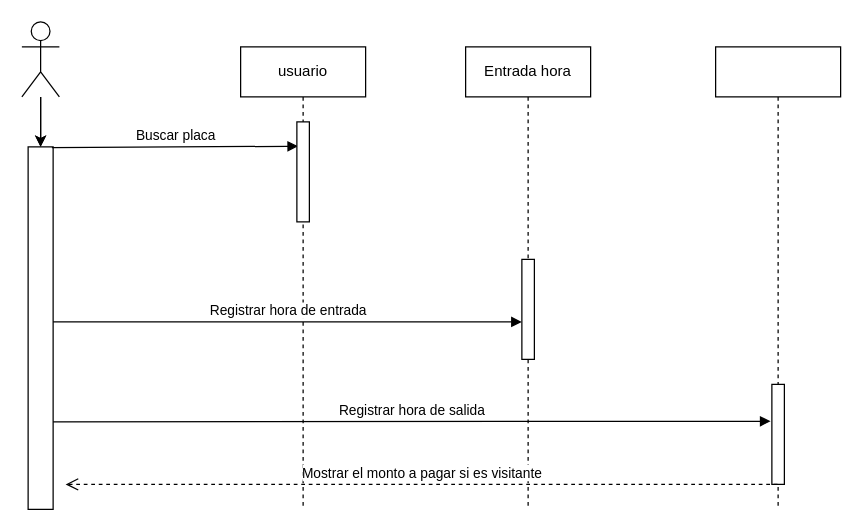
The diagram is 863 pixels wide and 531 high, and some of its shapes have lost their labels. The box of each missing label's shape, as (x1, y1, x2, y2) in pixels:
Placa: (21, 21, 59, 97)
Salida hora: (714, 46, 841, 509)
